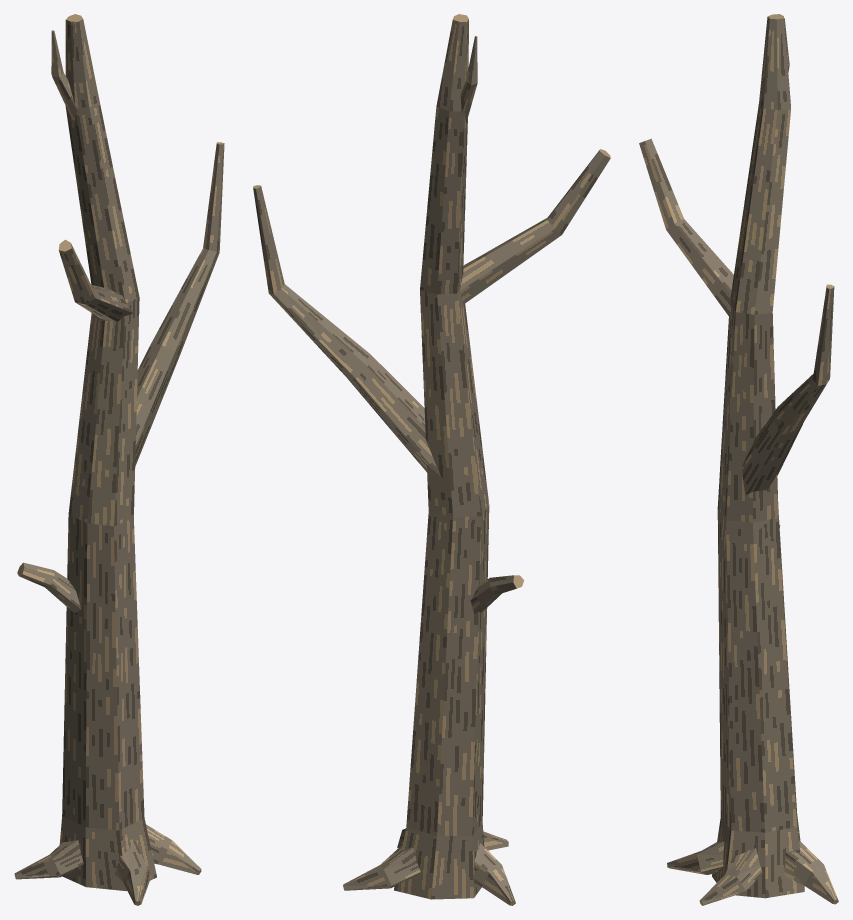
File: t_tree_hickory_dead.glb
3 views of the same model, side by side, from view 1: azimuth 30°, elevation 25°; view 2: azimuth 150°, elevation 25°; view 3: azimuth 270°, elevation 25° (orthographic). The views are drawn at different scales.
Visible parts, largest first — view 1: t_tree_hickory_dead_mesh; view 2: t_tree_hickory_dead_mesh; view 3: t_tree_hickory_dead_mesh.
Boxes of the visible parts, bbox=[...] form: t_tree_hickory_dead_mesh: bbox=[14, 14, 224, 905]; t_tree_hickory_dead_mesh: bbox=[253, 14, 610, 905]; t_tree_hickory_dead_mesh: bbox=[639, 14, 838, 905].
Size of the model in its own units: 1.17 by 3.7 by 0.788.
1 material, 1 textured.
